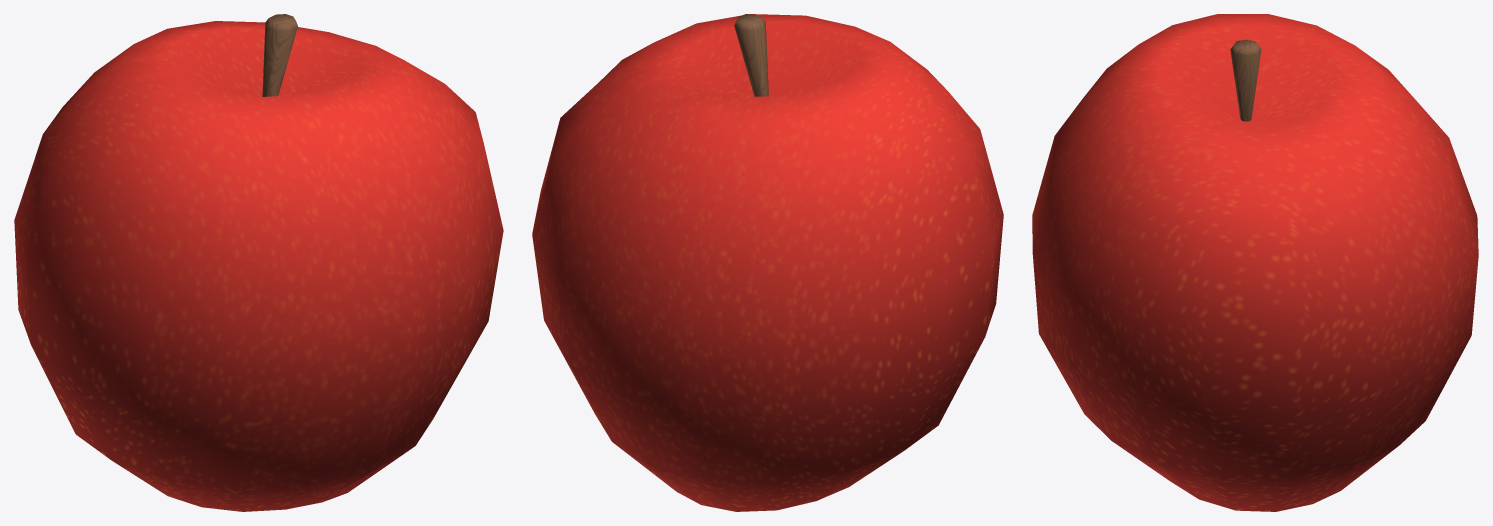
The model's file is applered.fbx.
3 renders of one model, left to right at view 1: azimuth 30°, elevation 25°; view 2: azimuth 150°, elevation 25°; view 3: azimuth 270°, elevation 25°, orthographic. The views are drawn at different scales.
Visible parts, largest first — view 1: applered, fruitB.002; view 2: applered, fruitB.002; view 3: applered, fruitB.002.
Part boxes in pixels (x1,y1,x2,y2): applered: [14, 21, 503, 511]; fruitB.002: [262, 14, 297, 96]; applered: [532, 14, 1003, 511]; fruitB.002: [734, 14, 768, 96]; applered: [1032, 14, 1478, 511]; fruitB.002: [1230, 39, 1261, 121].
Bounding box in the file's own units: 28.21 × 29.63 × 27.42.
Materials: 1 (1 with a texture image).
